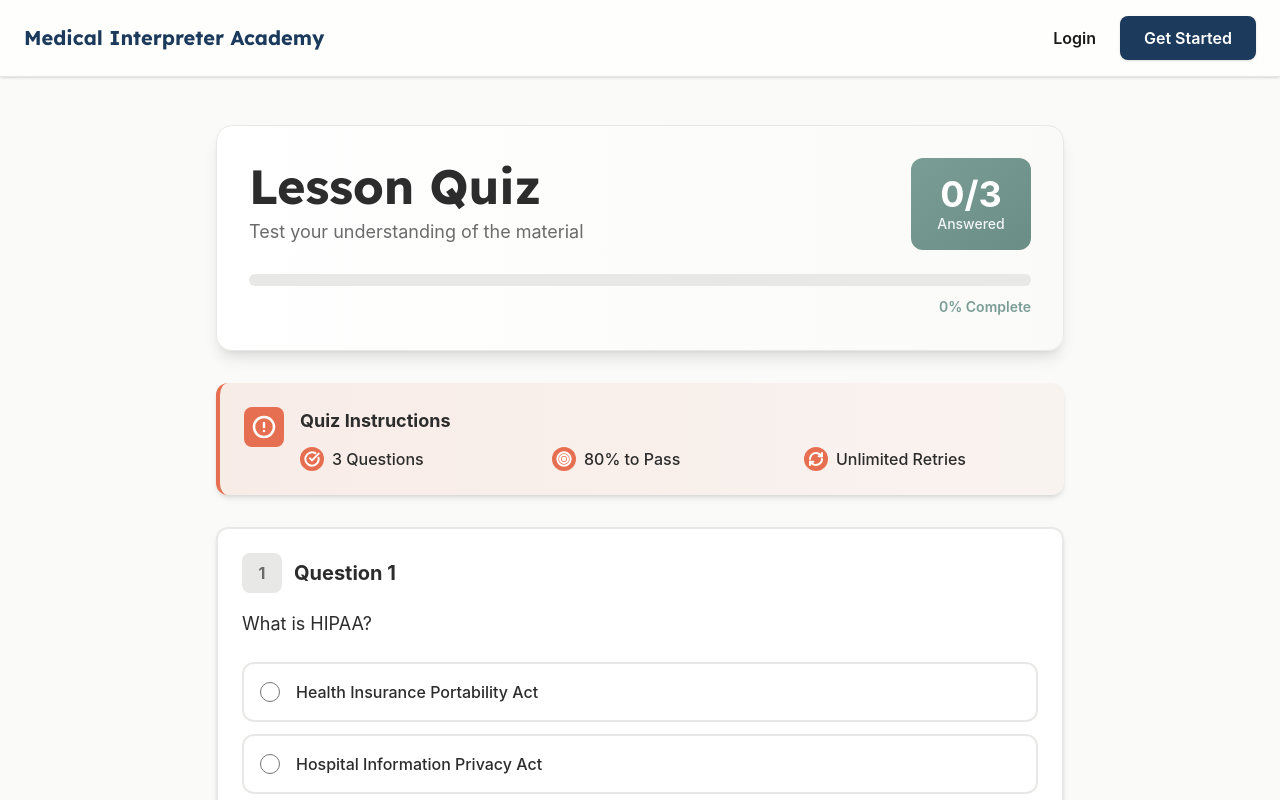
QuizView Page › Answering Questions › should enable submit button when at least one question answered
Click the radio button labelled "Health Insurance Portability Act". click: (270, 692)
box: left=260, top=682, right=280, bottom=702
(page scrolled)
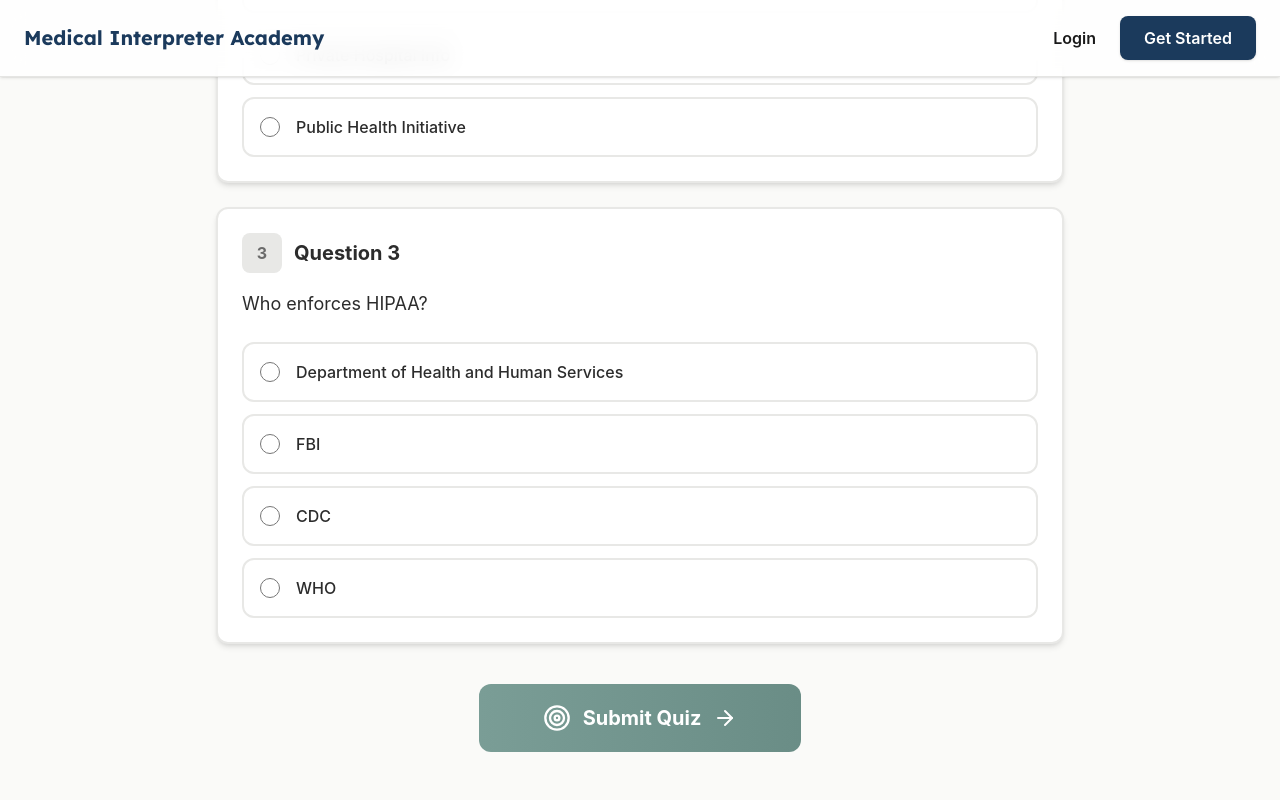
Result: the button "Submit Quiz" is enabled at left=479, top=684, right=801, bottom=752
